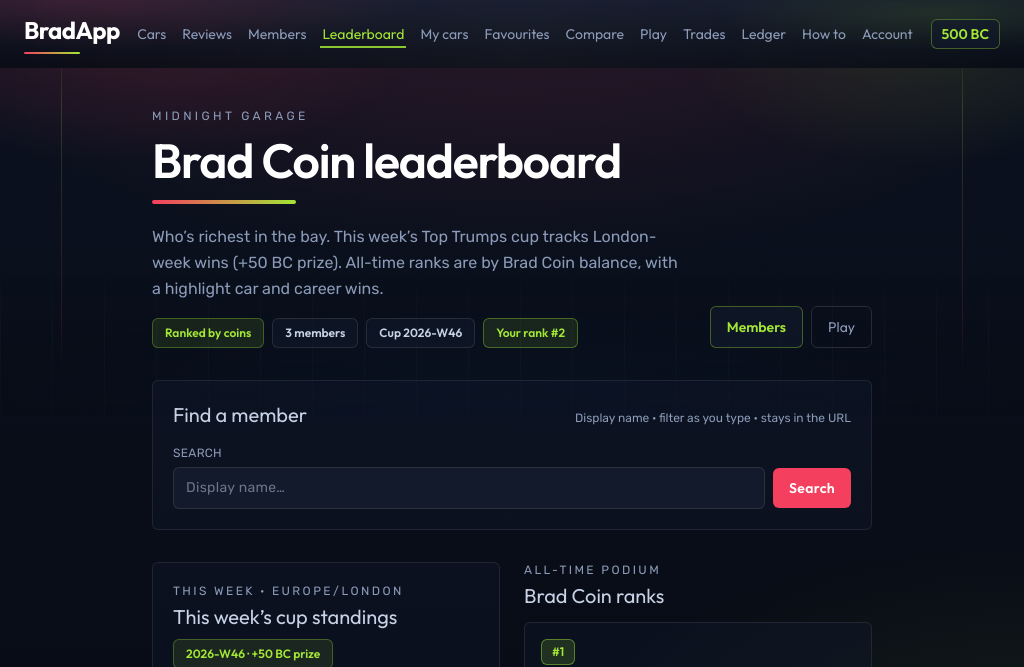
Test: LeaderboardPage Midnight Garage UI › searches standings by display name and keeps the podium
Expected: the heading "Find a member" is shown, top-left (173, 401), bottom-right (307, 429)
Type "casey" into the search field named "Search leaderboard by display name". click: [469, 488]
box: top-left (173, 467), bottom-right (765, 509)
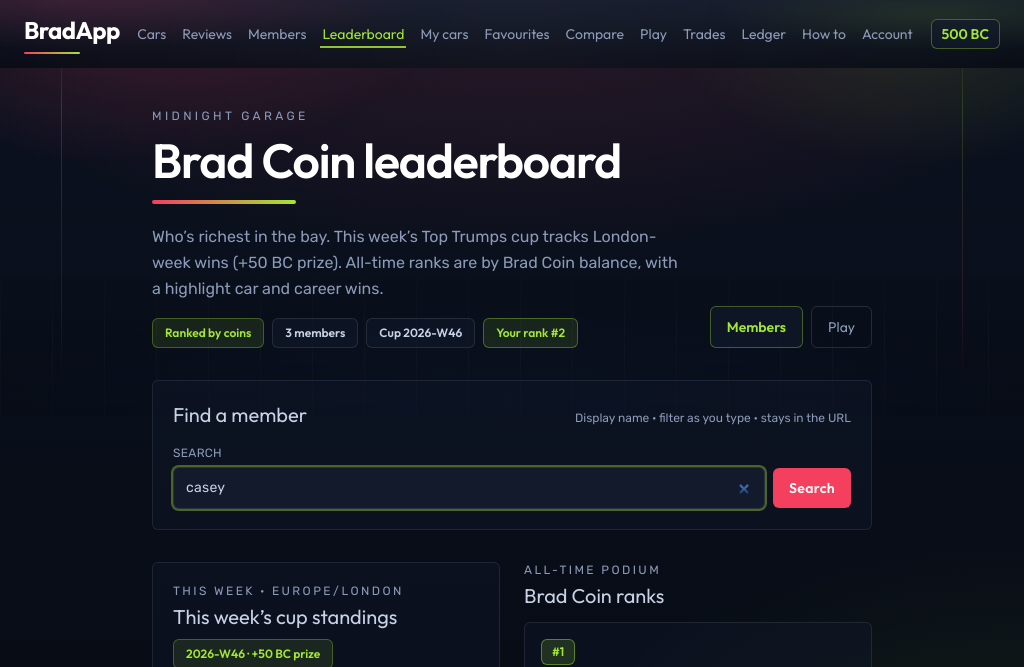
Click the button "Search". click: [812, 488]
box: top-left (773, 468), bottom-right (851, 508)
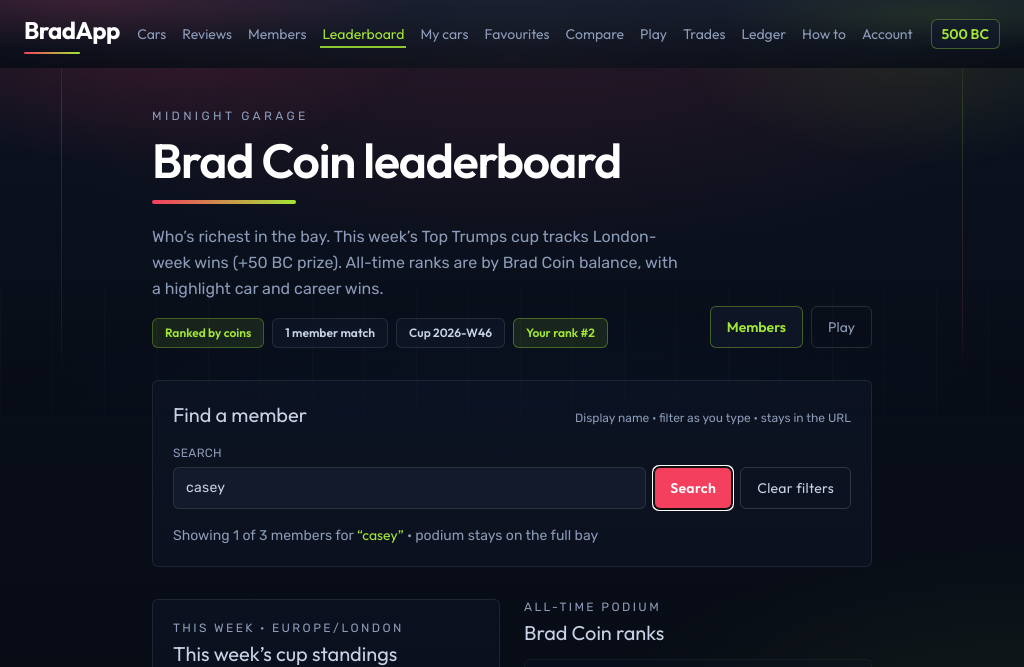
Click the button "Clear filters". click: [796, 488]
box: top-left (740, 467), bottom-right (851, 509)
(page scrolled)
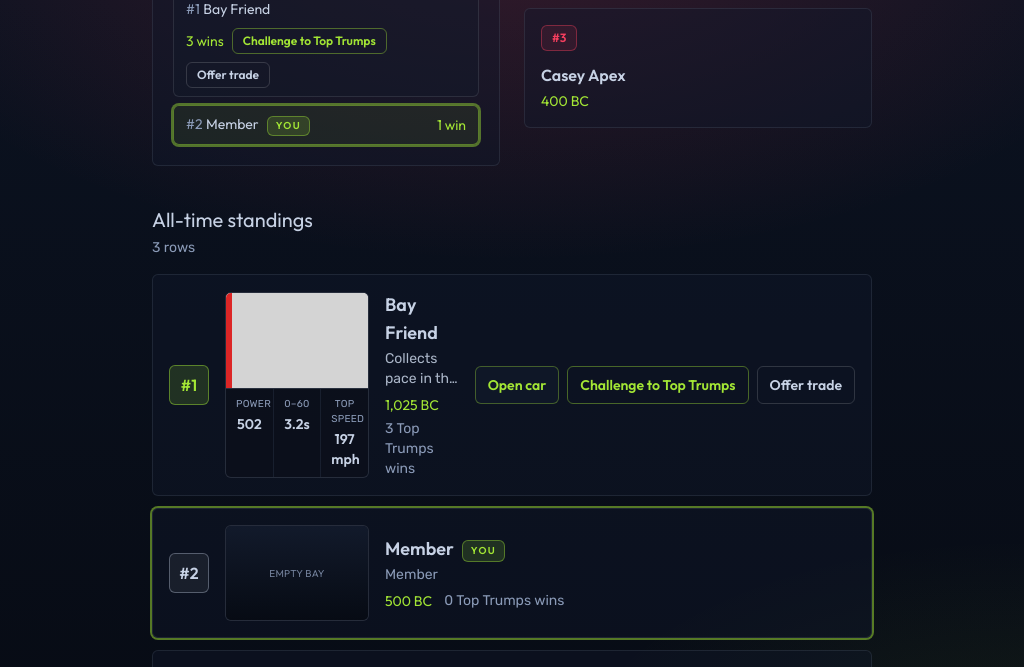
Now the link with aria-label "Bay Friend, rank 1, open garage" is shown, box top-left (169, 291), bottom-right (459, 479)
